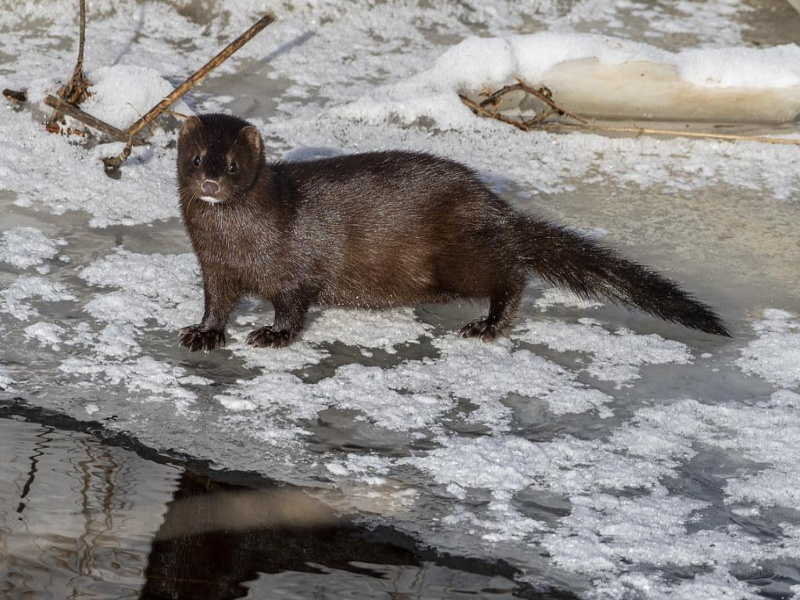minkish: (174, 113, 733, 359)
